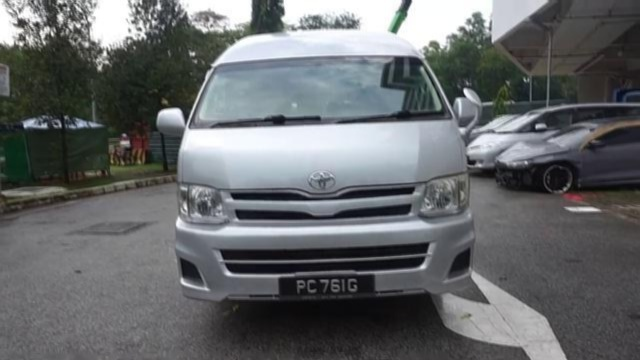van: (168, 27, 481, 304)
